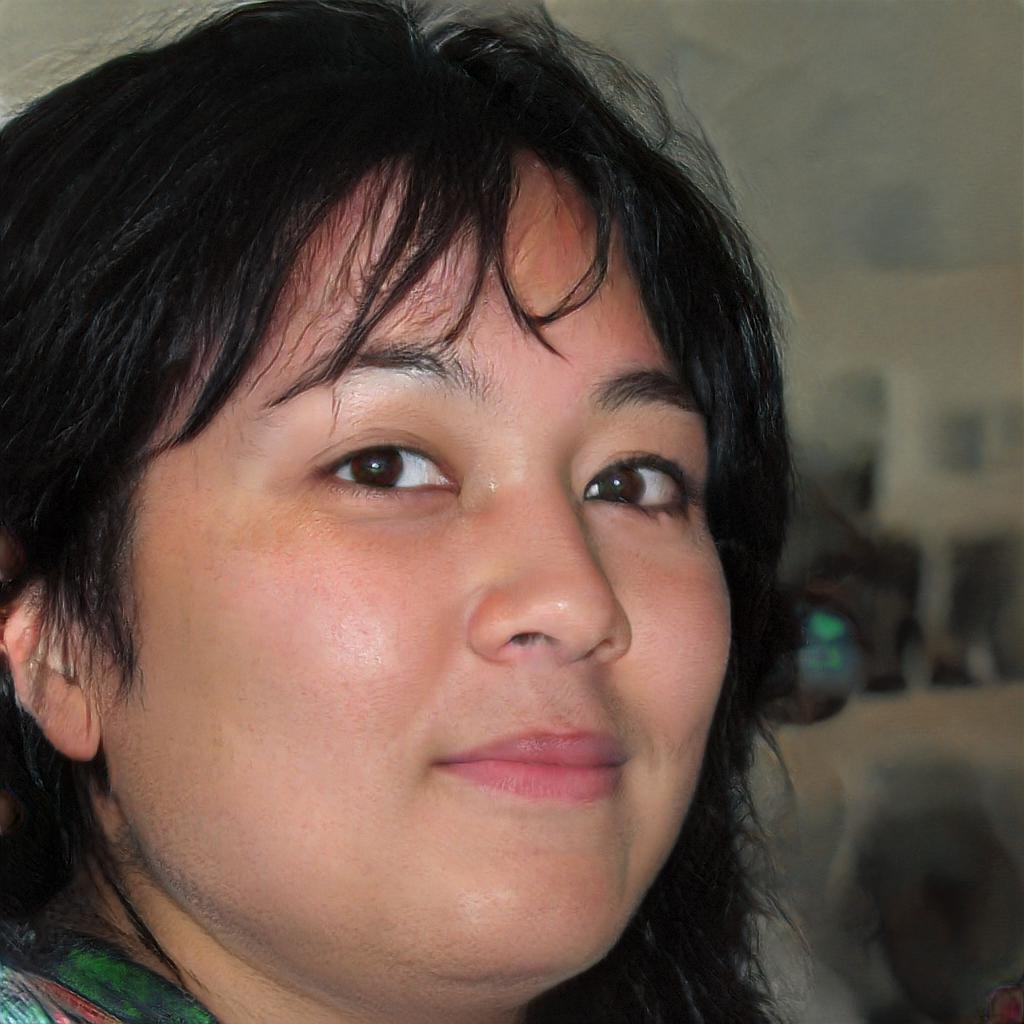face: (102, 167, 732, 973)
